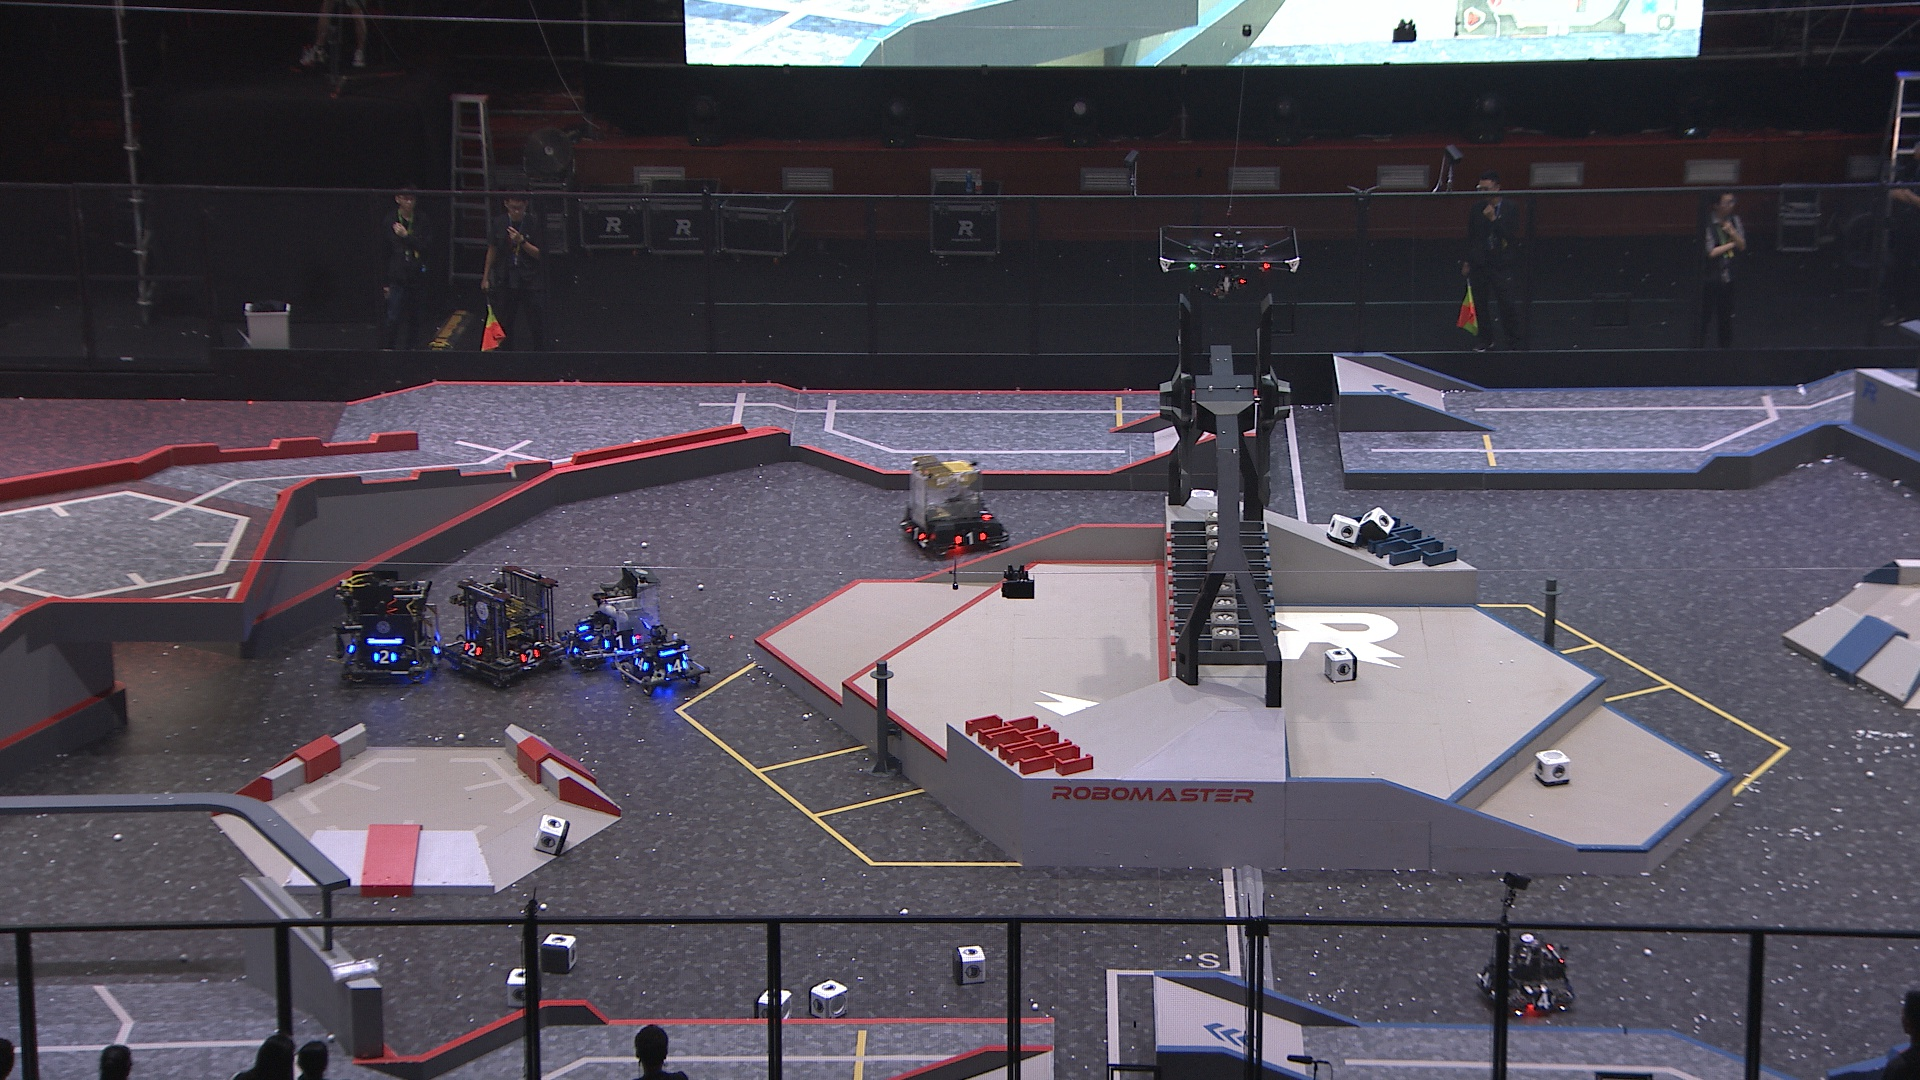armor: (600, 632, 640, 651), (951, 527, 986, 549), (1528, 989, 1556, 1011), (520, 645, 542, 669), (372, 647, 400, 666), (902, 522, 926, 543), (462, 638, 483, 659), (562, 636, 583, 657), (574, 622, 596, 642), (632, 651, 651, 674), (1476, 968, 1493, 993), (665, 657, 688, 673), (429, 633, 443, 657), (975, 502, 992, 520)
car: (438, 560, 562, 684), (334, 564, 455, 688), (895, 450, 1011, 556), (556, 560, 666, 671), (1472, 926, 1578, 1017), (612, 618, 711, 695)
